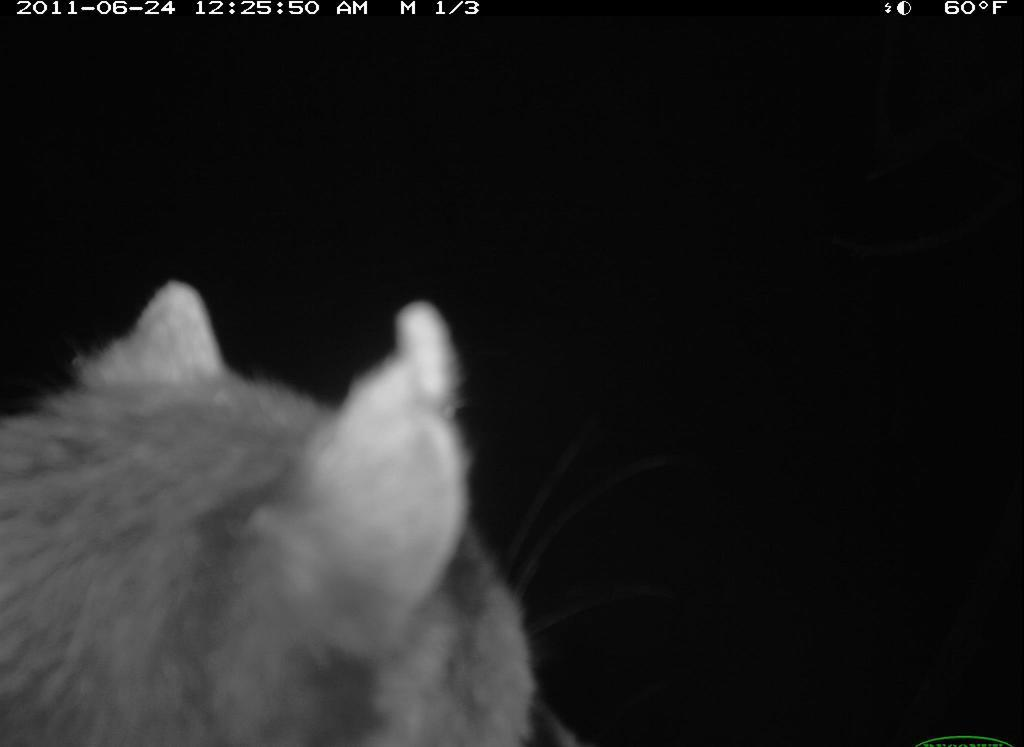raccoon: (6, 265, 575, 747)
